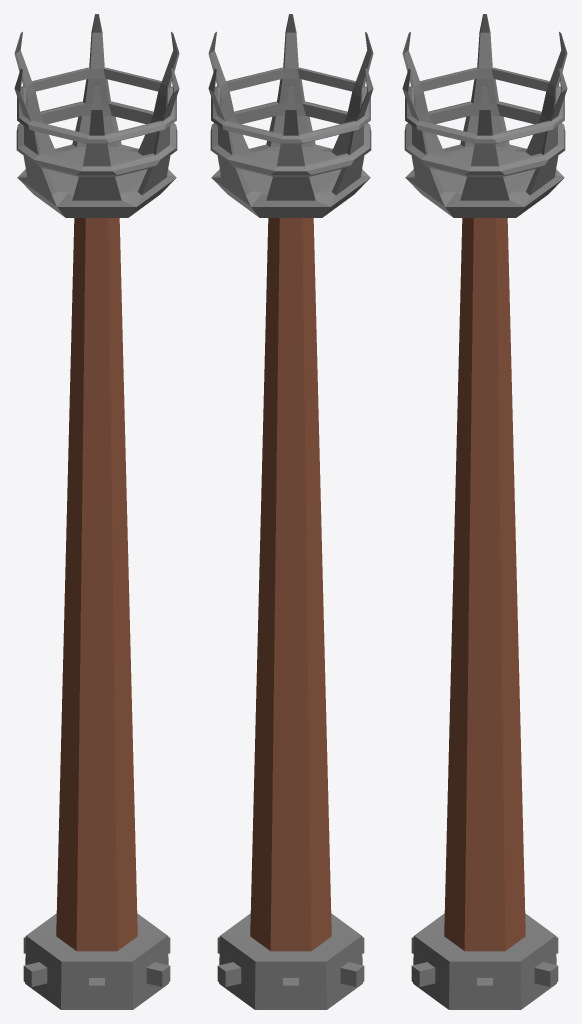
The model's file is torch.fbx.
3 renders of one model, left to right at view 1: azimuth 30°, elevation 25°; view 2: azimuth 150°, elevation 25°; view 3: azimuth 270°, elevation 25°, orthographic.
Visible parts, largest first — view 1: Torch; view 2: Torch; view 3: Torch.
Boxes of the visible parts, bbox=[...] form: Torch: bbox=[14, 14, 179, 1009]; Torch: bbox=[208, 14, 373, 1009]; Torch: bbox=[402, 14, 567, 1009].
Bounding box in the file's own units: 8.94 × 49.98 × 8.01.
